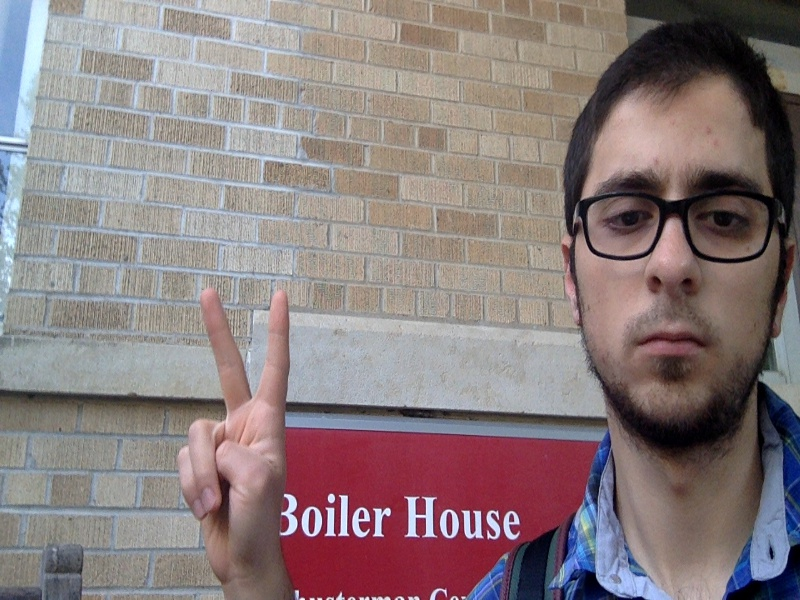2-hand: (176, 287, 299, 600)
